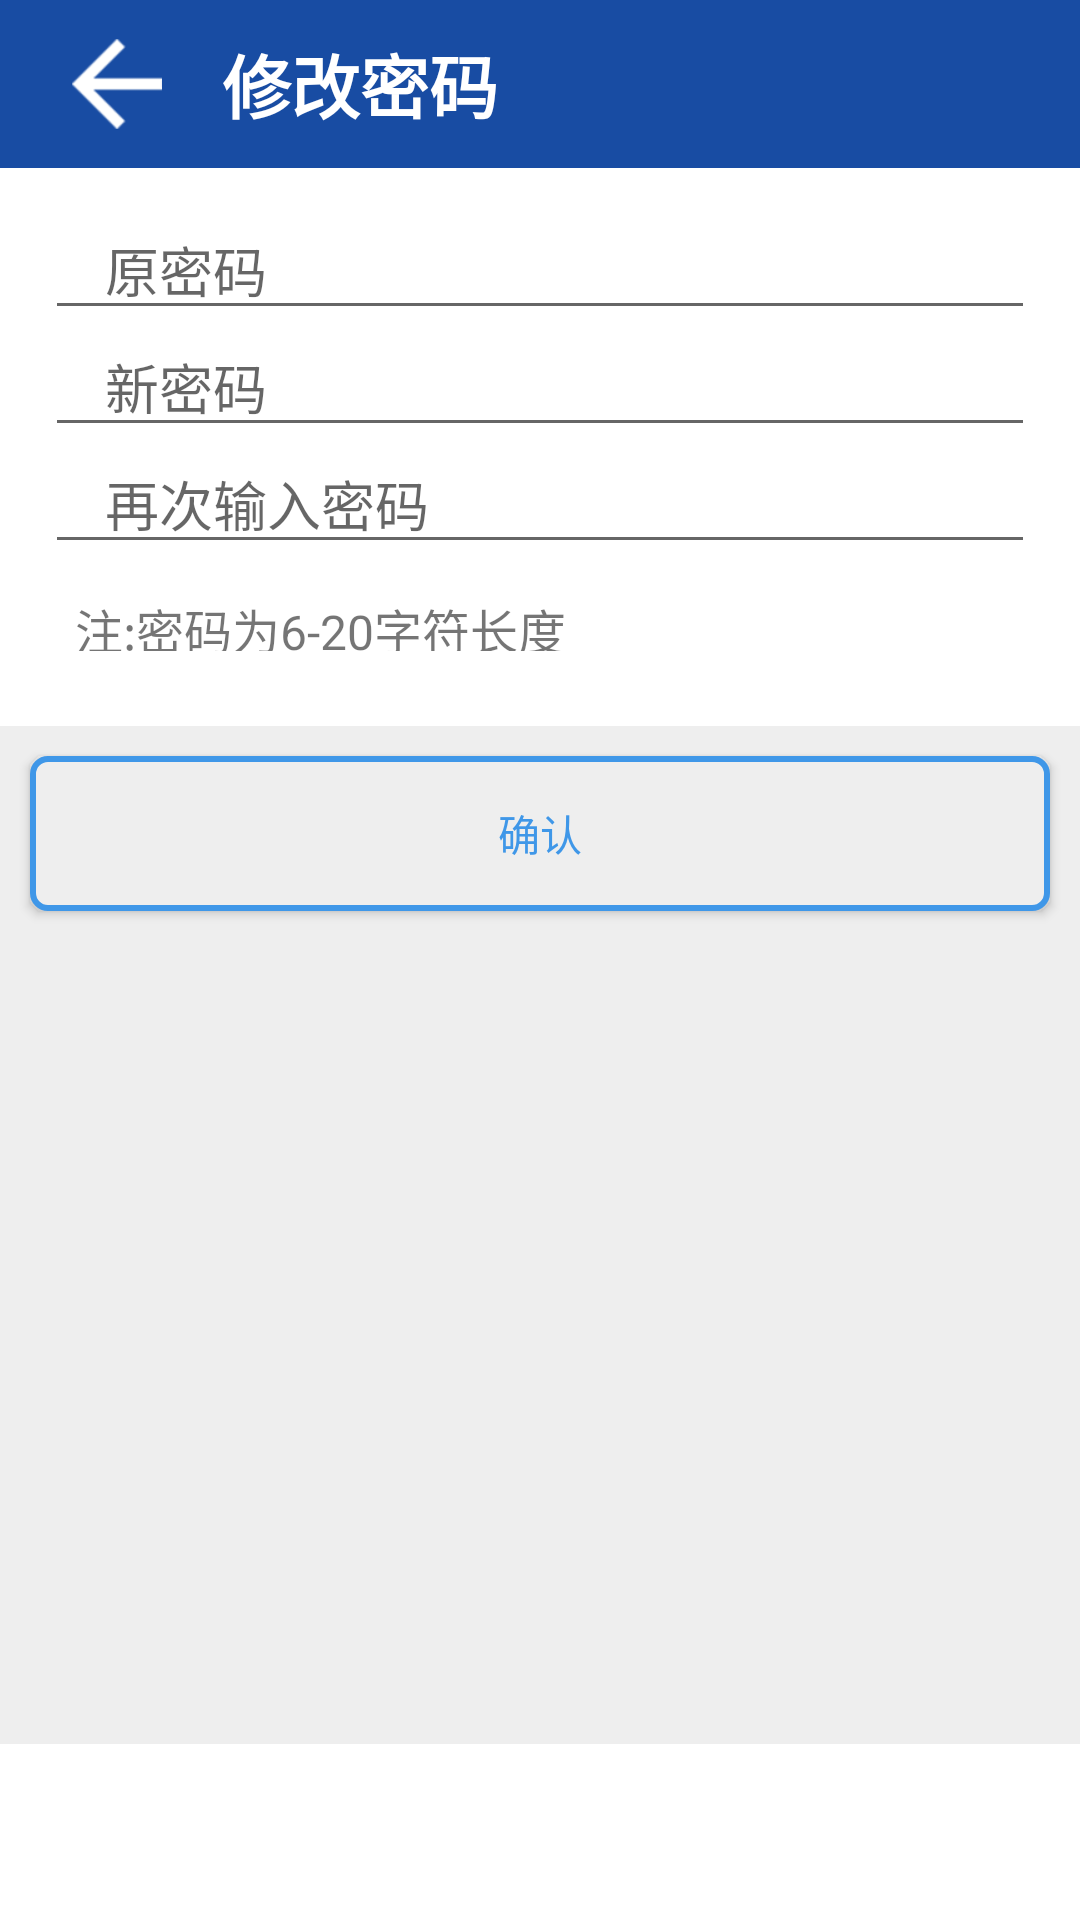

Where icons sit on this 1080*1920 app screen, as (x1, y1, x2, y2):
arrow back: (72, 39, 162, 129)
